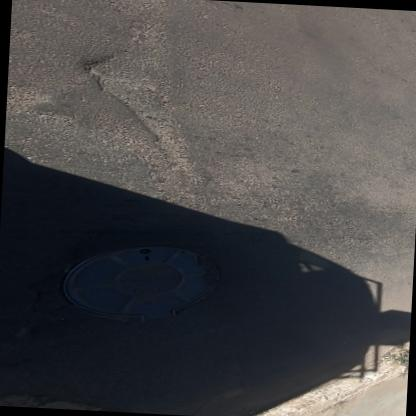manholes: (50, 235, 233, 330)
